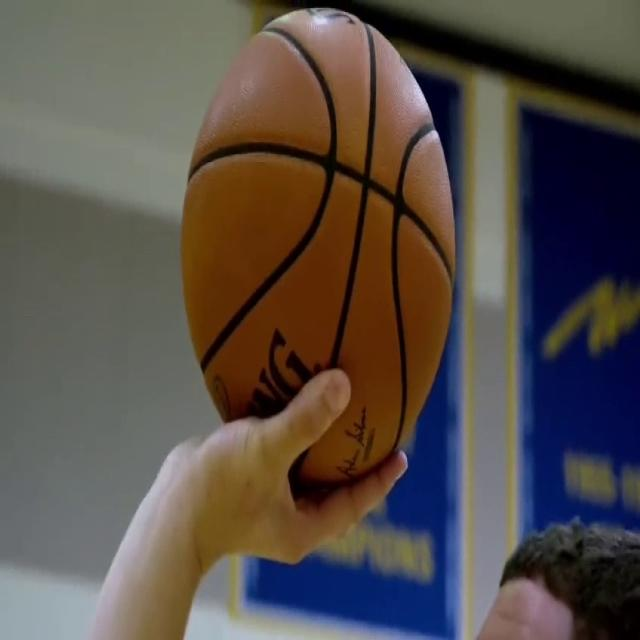ball: (180, 7, 457, 490)
